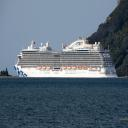cruises: (14, 37, 119, 81)
